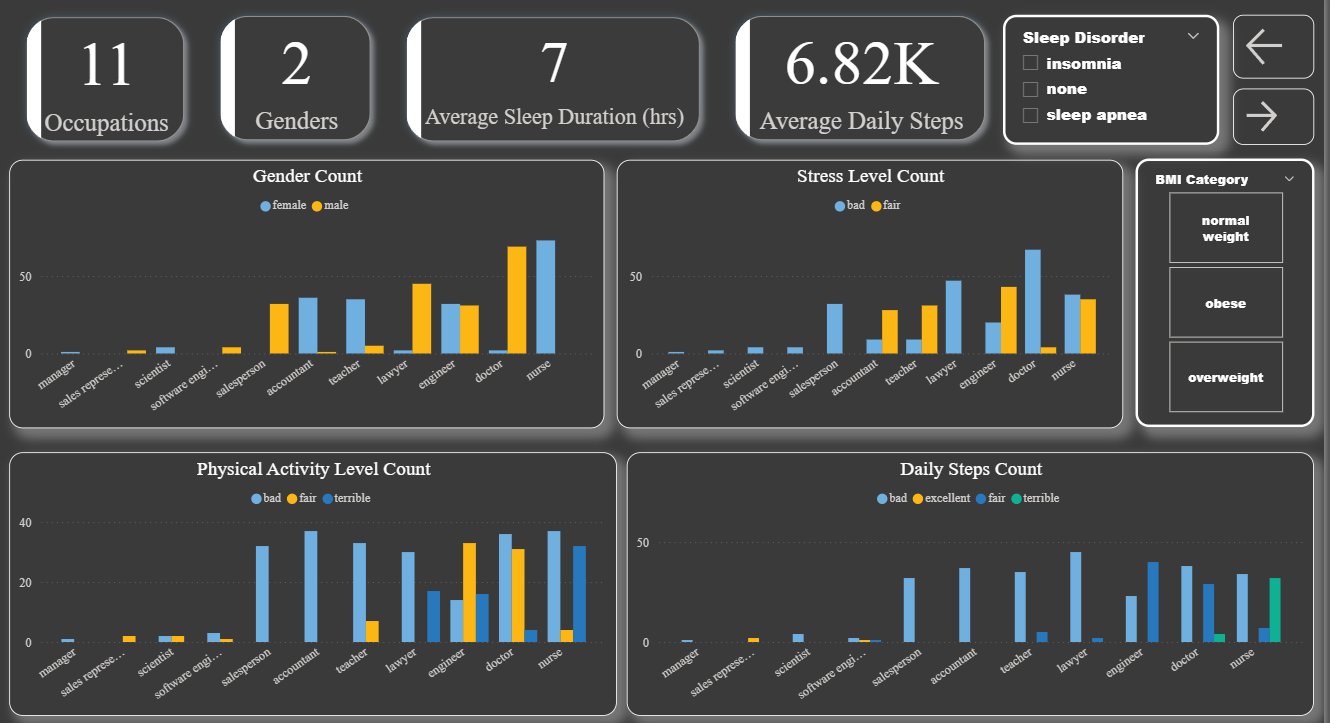

This screenshot's page, from the dashboard's own definition file:
{"tool":"powerbi","page":{"name":"Page 2","canvas":[1280,720],"ordinal":1},"visuals":[{"type":"cardVisual","fields":{"Data":["Count(Sleep_health_and_lifestyle_dataset.occupation)"]},"box":[10.9,8.4,187,154.4],"z":0},{"type":"cardVisual","fields":{"Data":["Avg(Sleep_health_and_lifestyle_dataset.daily steps)"]},"box":[694.9,7.2,275.1,154.4],"z":1000},{"type":"cardVisual","fields":{"Data":["Count(Sleep_health_and_lifestyle_dataset.gender)"]},"box":[197.9,7.2,179.8,154.4],"z":2000},{"type":"cardVisual","fields":{"Data":["Avg(Sleep_health_and_lifestyle_dataset.sleep duration)"]},"box":[377.6,8.4,317.3,154.4],"z":3000},{"type":"clusteredColumnChart","title":"Gender Count ","fields":{"Category":["Sleep_health_and_lifestyle_dataset.occupation"],"Y":["CountNonNull(Sleep_health_and_lifestyle_dataset.gender)"],"Series":["Sleep_health_and_lifestyle_dataset.gender"]},"box":[10.9,162.9,574.3,259.4],"z":4000},{"type":"clusteredColumnChart","title":"Stress Level Count","fields":{"Category":["Sleep_health_and_lifestyle_dataset.occupation"],"Y":["CountNonNull(Sleep_health_and_lifestyle_dataset.stress level categorised)"],"Series":["Sleep_health_and_lifestyle_dataset.stress level categorised"]},"box":[597.2,162.9,488.6,259.4],"z":5000},{"type":"clusteredColumnChart","title":"Physical Activity Level Count","fields":{"Category":["Sleep_health_and_lifestyle_dataset.occupation"],"Y":["CountNonNull(Sleep_health_and_lifestyle_dataset.physical activity level categorised)"],"Series":["Sleep_health_and_lifestyle_dataset.physical activity level categorised"]},"box":[10.9,445.2,586.3,254.6],"z":6000},{"type":"clusteredColumnChart","title":"Daily Steps Count","fields":{"Category":["Sleep_health_and_lifestyle_dataset.occupation"],"Y":["CountNonNull(Sleep_health_and_lifestyle_dataset.daily steps categorised)"],"Series":["Sleep_health_and_lifestyle_dataset.daily steps categorised"]},"box":[606.8,445.2,663.5,254.6],"z":7000},{"type":"slicer","fields":{"Values":["Sleep_health_and_lifestyle_dataset.bmi category"]},"box":[1097.9,161.7,172.5,259.4],"z":8000},{"type":"slicer","fields":{"Values":["Sleep_health_and_lifestyle_dataset.sleep disorder"]},"box":[970,22.9,208.7,125.5],"z":9000},{"type":"actionButton","box":[1192,22.9,78.4,61.5],"z":10000},{"type":"actionButton","box":[1192,94.1,78.4,54.3],"z":11000}]}

Visuals, with their boxes in screenshot pixels (x1, y1, x2, y2):
cardVisual - Count(Sleep_health_and_lifestyle_dataset.occupation): {"x1": 15, "y1": 0, "x2": 207, "y2": 157}
cardVisual - Avg(Sleep_health_and_lifestyle_dataset.daily steps): {"x1": 718, "y1": 0, "x2": 1001, "y2": 156}
cardVisual - Count(Sleep_health_and_lifestyle_dataset.gender): {"x1": 207, "y1": 0, "x2": 392, "y2": 156}
cardVisual - Avg(Sleep_health_and_lifestyle_dataset.sleep duration): {"x1": 392, "y1": 0, "x2": 718, "y2": 157}
"Gender Count " clusteredColumnChart: {"x1": 15, "y1": 157, "x2": 605, "y2": 424}
"Stress Level Count" clusteredColumnChart: {"x1": 617, "y1": 157, "x2": 1120, "y2": 424}
"Physical Activity Level Count" clusteredColumnChart: {"x1": 15, "y1": 447, "x2": 617, "y2": 709}
"Daily Steps Count" clusteredColumnChart: {"x1": 627, "y1": 447, "x2": 1309, "y2": 709}
slicer - Sleep_health_and_lifestyle_dataset.bmi category: {"x1": 1132, "y1": 156, "x2": 1309, "y2": 422}
slicer - Sleep_health_and_lifestyle_dataset.sleep disorder: {"x1": 1001, "y1": 13, "x2": 1215, "y2": 142}
actionButton: {"x1": 1229, "y1": 13, "x2": 1309, "y2": 76}
actionButton: {"x1": 1229, "y1": 86, "x2": 1309, "y2": 142}
